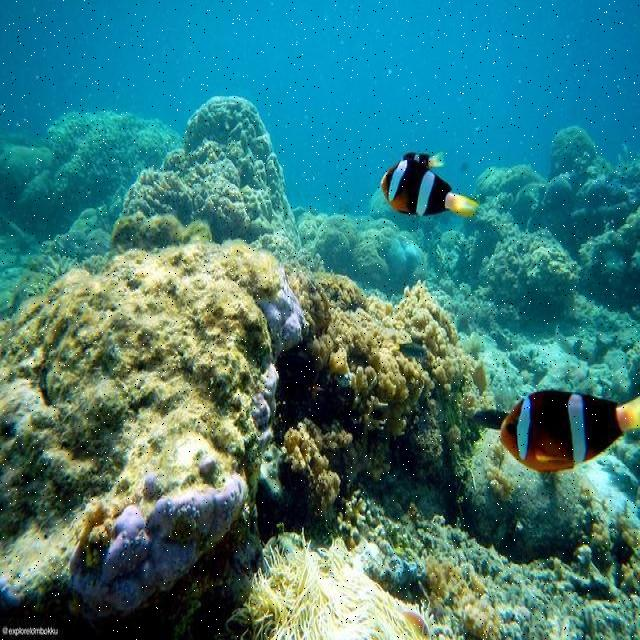fish: (498, 389, 639, 474), (380, 159, 480, 219), (404, 151, 445, 168)
reefs: (227, 526, 421, 639)
sea-floor: (1, 238, 306, 610), (119, 96, 301, 250)
